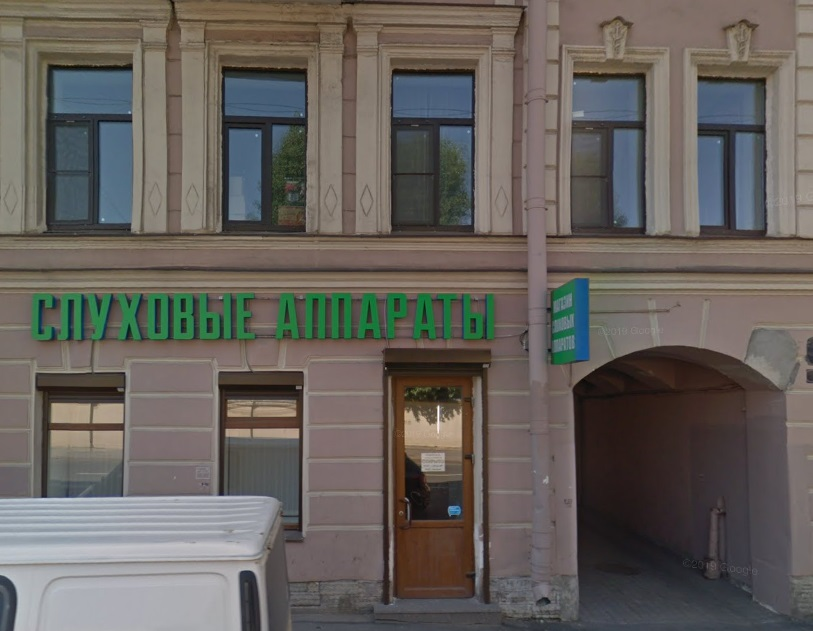arch: (570, 341, 798, 624)
cantilever: (541, 278, 593, 362)
door: (386, 370, 477, 602)
signboard: (30, 294, 497, 341)
window: (388, 65, 478, 235), (46, 65, 133, 233), (221, 70, 306, 232), (694, 77, 771, 237), (569, 78, 645, 233), (223, 392, 299, 525), (41, 391, 125, 498)
